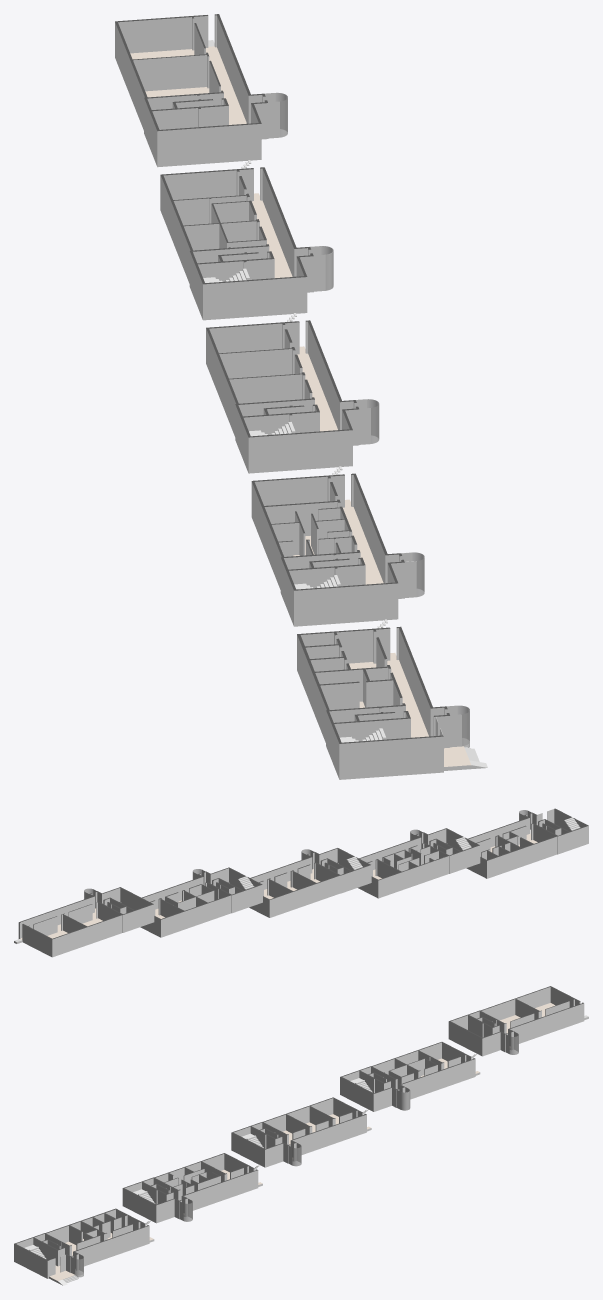
3 views of the same model, one above another, from view 1: azimuth 30°, elevation 25°; view 2: azimuth 150°, elevation 25°; view 3: azimuth 330°, elevation 25° (orthographic). The views are drawn at different scales.
Visible parts, largest first — view 1: 370481, 371211, 369310, 369876, 371813, 369598, 369023, 370725, 370078, 371379, 371555, 369304 (+3 smaller); view 2: 371813, 369876, 371211, 369310, 370481, 369598, 369023, 370725, 371555, 370078, 371379; view 3: 369876, 369310, 371211, 371813, 370481, 369598, 370725, 369023, 370078, 371555.
Boxes of the visible parts, x1,y1,x2,y2 form: 370481: (206, 321, 379, 473); 371211: (160, 168, 333, 320); 369310: (297, 628, 487, 779); 369876: (251, 474, 424, 626); 371813: (115, 15, 287, 167); 369598: (251, 473, 404, 590); 369023: (297, 626, 449, 743); 370725: (160, 167, 313, 284); 370078: (206, 320, 358, 437); 371379: (130, 46, 246, 124); 371555: (115, 14, 267, 131); 369304: (349, 653, 470, 766); 371813: (14, 888, 154, 957); 369876: (358, 829, 480, 898); 371211: (140, 868, 262, 937); 369310: (466, 809, 588, 878); 370481: (249, 848, 371, 917); 369598: (359, 828, 479, 880); 369023: (468, 808, 588, 860); 370725: (142, 867, 262, 919); 371555: (19, 887, 153, 939); 370078: (250, 848, 370, 899); 371379: (20, 908, 102, 939); 369876: (122, 1153, 262, 1223); 369310: (14, 1209, 154, 1285); 371211: (340, 1042, 480, 1111); 371813: (448, 987, 588, 1056); 370481: (231, 1098, 371, 1167); 369598: (123, 1153, 257, 1205); 370725: (340, 1042, 475, 1093); 369023: (14, 1208, 148, 1260); 370078: (232, 1097, 366, 1149); 371555: (449, 986, 583, 1038).
Size of the model in its own units: 66.98 by 22.5 by 153.
